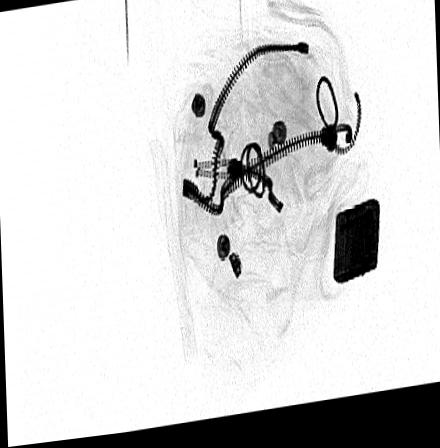Lighter: (332, 205, 380, 293)
